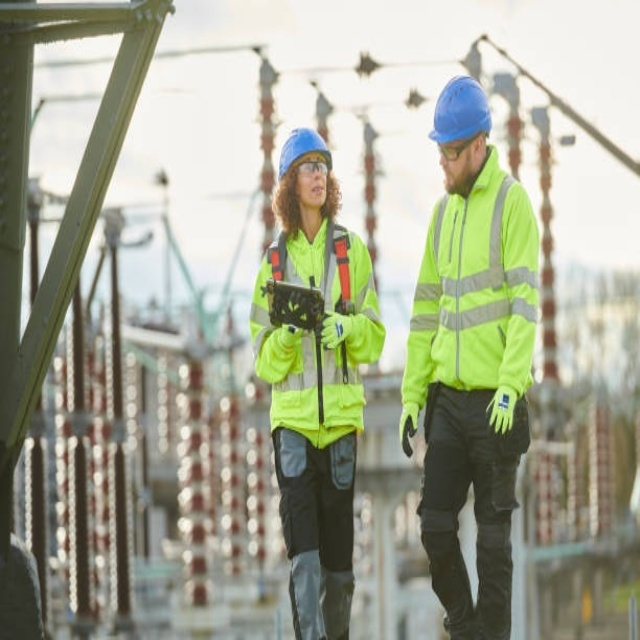Gafas: (437, 134, 480, 161), (295, 161, 329, 175)
Guantes: (486, 387, 518, 436), (320, 312, 355, 350), (400, 403, 421, 457), (275, 322, 304, 352)
Sin_mascara: (439, 163, 459, 190), (307, 184, 327, 204)
